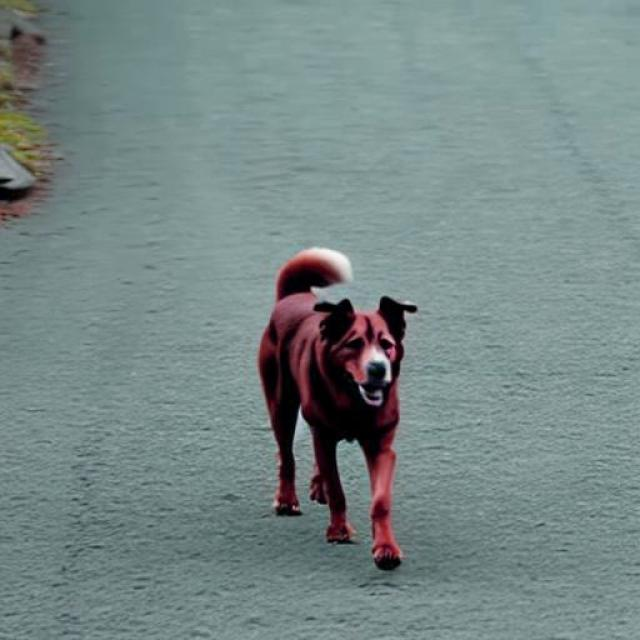Dog: (256, 246, 421, 570)
